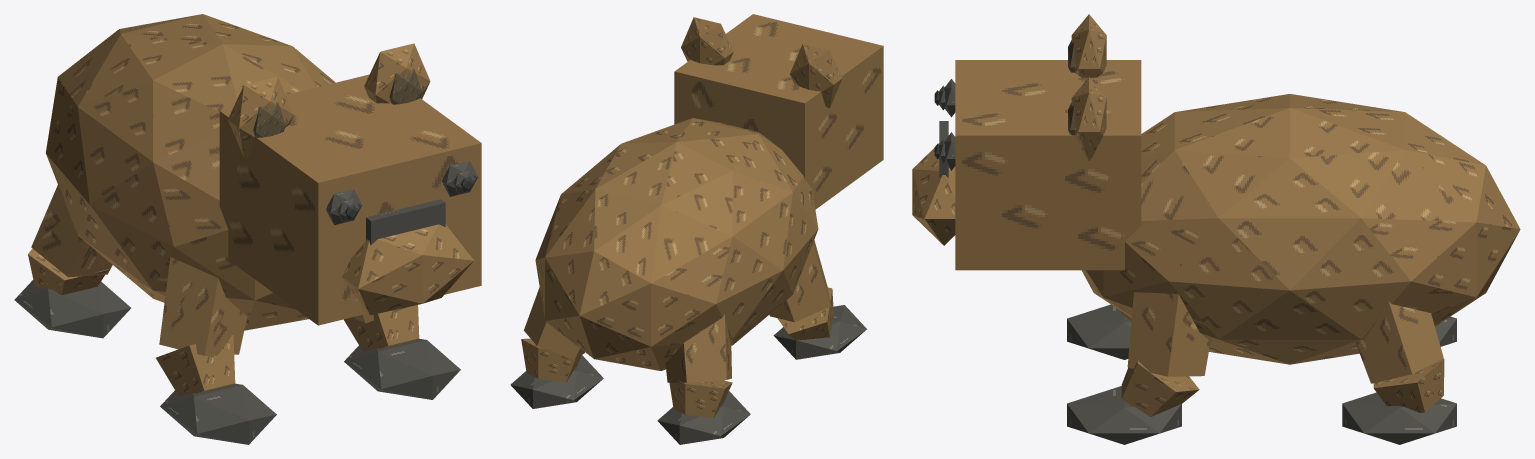
The model's file is animal-capivara-v01.gltf.
The picture shows the model from 3 angles, left to right: view 1: azimuth 30°, elevation 25°; view 2: azimuth 150°, elevation 25°; view 3: azimuth 270°, elevation 25°; orthographic projection. The views are drawn at different scales.
Parts seen in each view (by area): view 1: cabeca, corpo, perna-frente-esquerda, perna-tras-esquerda, perna-frente-direita; view 2: corpo, cabeca, perna-tras-esquerda, perna-frente-esquerda, perna-tras-direita; view 3: corpo, cabeca, perna-frente-direita, perna-tras-direita, perna-frente-esquerda.
Boxes of the visible parts, x1,y1,x2,y2 form: cabeca: [219, 43, 481, 325]; corpo: [46, 14, 335, 330]; perna-frente-esquerda: [156, 257, 276, 444]; perna-tras-esquerda: [14, 183, 130, 338]; perna-frente-direita: [343, 305, 460, 399]; corpo: [535, 118, 818, 370]; cabeca: [674, 14, 883, 209]; perna-tras-esquerda: [657, 314, 750, 444]; perna-frente-esquerda: [769, 240, 866, 359]; perna-tras-direita: [510, 287, 603, 408]; corpo: [1081, 94, 1520, 364]; cabeca: [912, 14, 1141, 270]; perna-frente-direita: [1067, 292, 1210, 444]; perna-tras-direita: [1342, 301, 1456, 444]; perna-frente-esquerda: [1067, 304, 1131, 359].
Bounding box in the file's own units: 0.78 × 1 × 1.64.
1 material, 1 textured.
